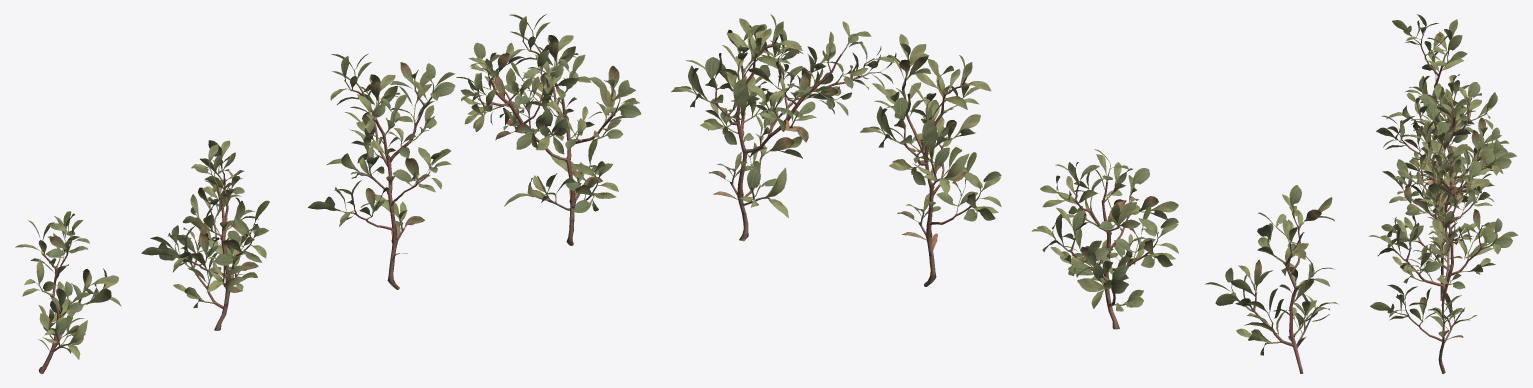
The model's file is shrub_04.glb.
The picture shows the model from 3 angles, left to right: view 1: azimuth 30°, elevation 25°; view 2: azimuth 150°, elevation 25°; view 3: azimuth 270°, elevation 25°; orthographic projection. The views are drawn at different scales.
Parts seen in each view (by area): view 1: shrub_04; view 2: shrub_04; view 3: shrub_04.
Part boxes in pixels (left/top/right/bottom): shrub_04: left=15, top=14, right=641, bottom=373; shrub_04: left=671, top=14, right=1338, bottom=373; shrub_04: left=1369, top=14, right=1518, bottom=373.
Bounding box in the file's own units: 0.5837 × 0.2192 × 0.1461.
Materials: 1 (1 with a texture image).
